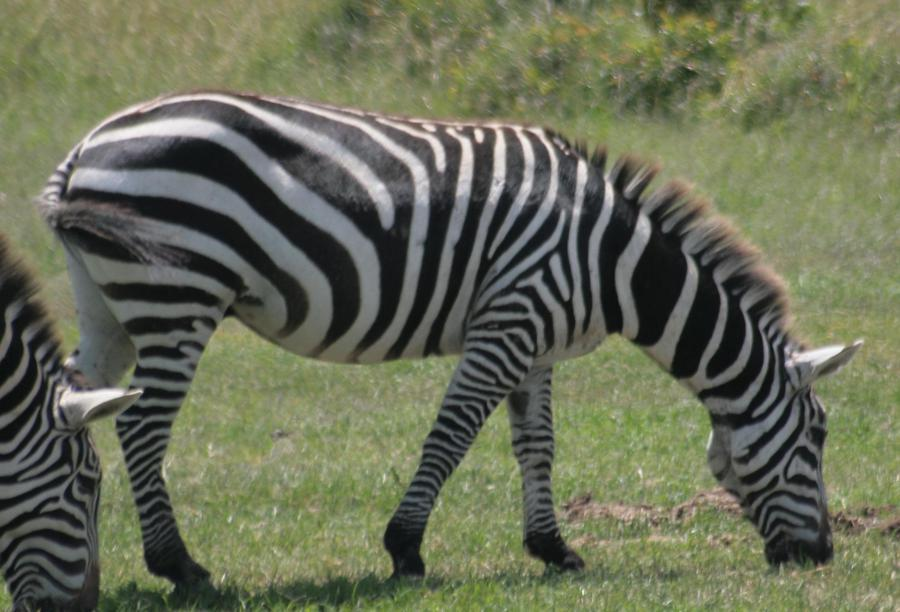zebra_plains: (90, 89, 591, 375)
